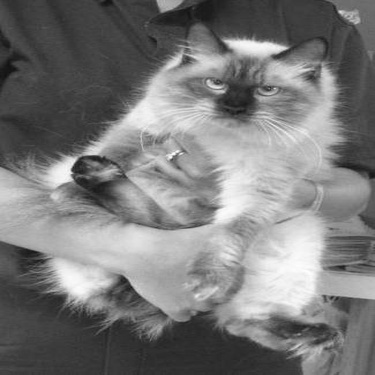cat: (29, 18, 342, 355)
